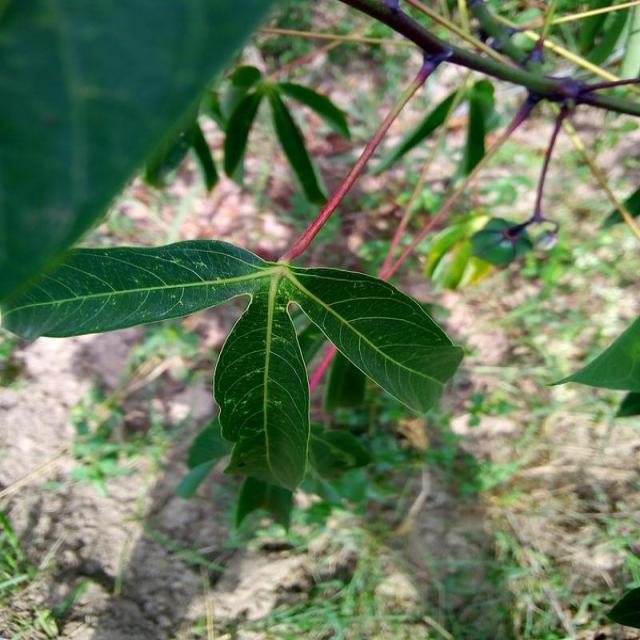cassava leaf: (2, 236, 464, 492), (212, 274, 311, 492)
